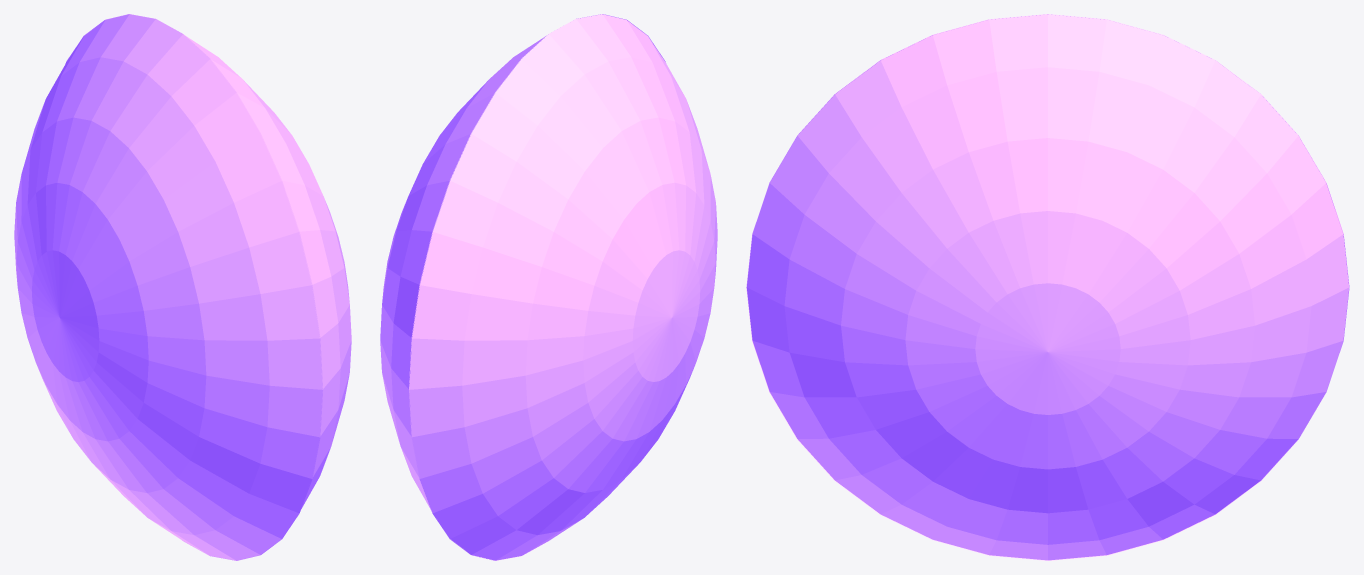
File: lens_convex.DAE
3 renders of one model, left to right at view 1: azimuth 30°, elevation 25°; view 2: azimuth 150°, elevation 25°; view 3: azimuth 270°, elevation 25°, orthographic. The views are drawn at different scales.
Parts seen in each view (by area): view 1: Sphere01, Sphere02; view 2: Sphere01, Sphere02; view 3: Sphere02, Sphere01.
Boxes of the visible parts, left/top/right/bottom form: Sphere01: left=14, top=14, right=323, bottom=560; Sphere02: left=65, top=14, right=351, bottom=560; Sphere01: left=409, top=14, right=717, bottom=560; Sphere02: left=380, top=14, right=665, bottom=560; Sphere02: left=746, top=14, right=1349, bottom=560; Sphere01: left=746, top=14, right=1349, bottom=560.
Size of the model in its own units: 61.7 by 121 by 121.
